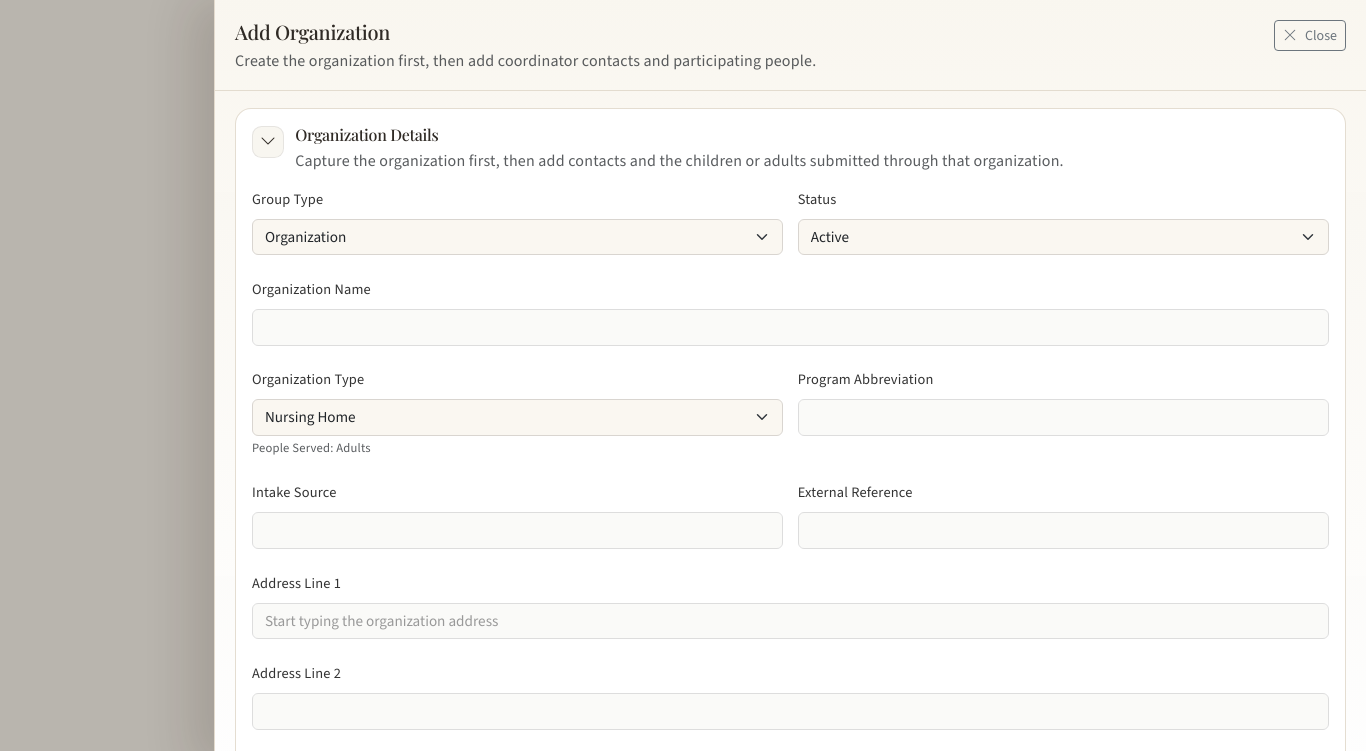
CampaignPeopleGroupDrawer › uses organization-specific labels and can apply an address suggestion
Expected: the heading "Add Organization" is shown, [235, 18, 390, 45]
Expected: the field labelled "Organization Name" is shown, [252, 309, 1329, 346]
Type "123 Main" into the field labelled "Address Line 1" at (790, 621), box [252, 603, 1329, 639]
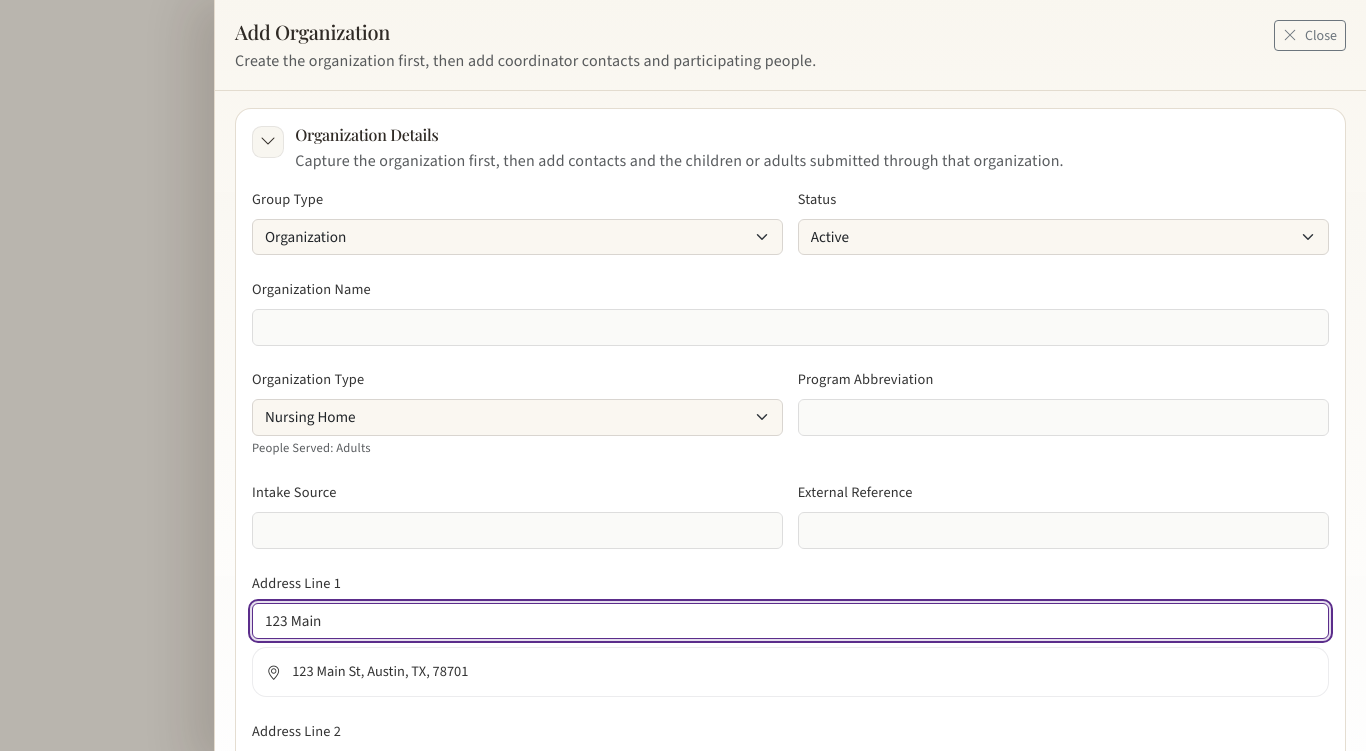
Click the button "123 Main St, Austin, TX, 78701" at (380, 671), box [252, 647, 1329, 697]
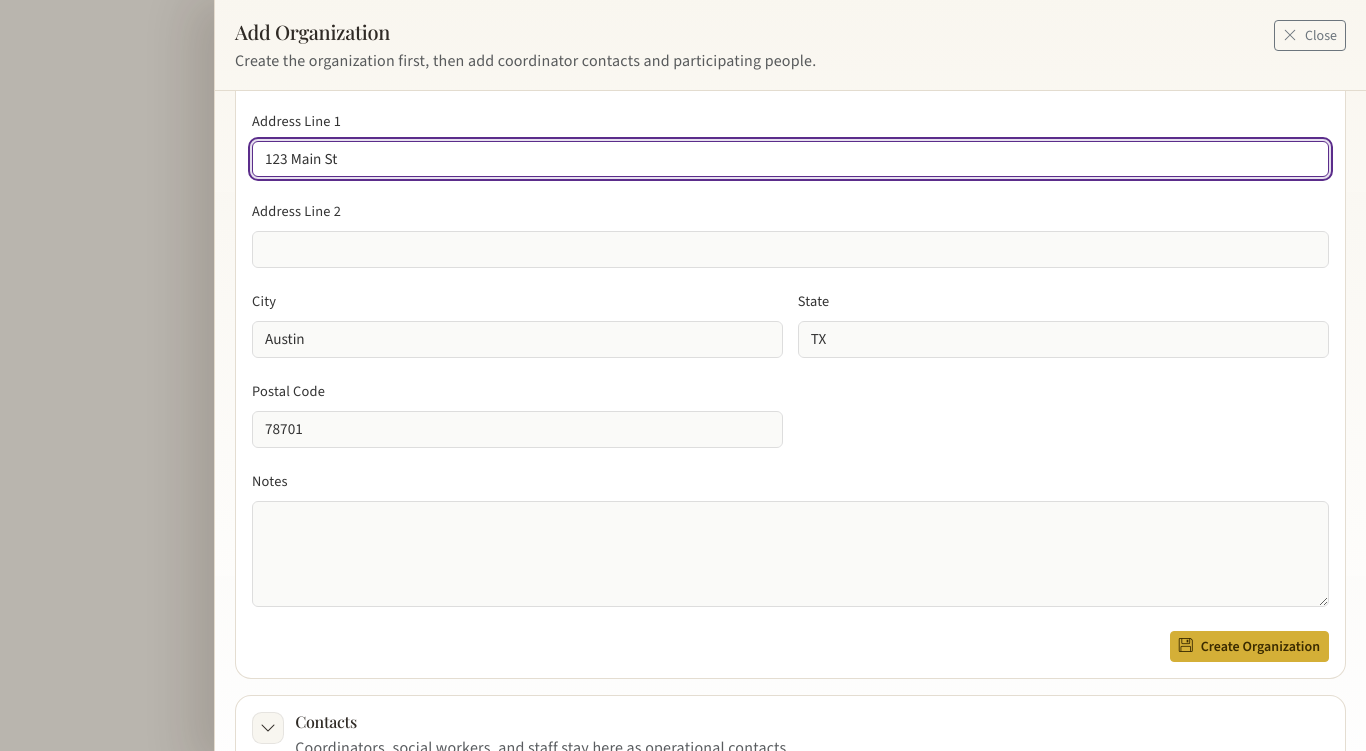
Expected: the field showing "123 Main St" is shown, [252, 141, 1329, 177]
Expected: the field showing "Austin" is shown, [252, 321, 783, 358]
Expected: the field showing "TX" is shown, [798, 321, 1329, 358]
